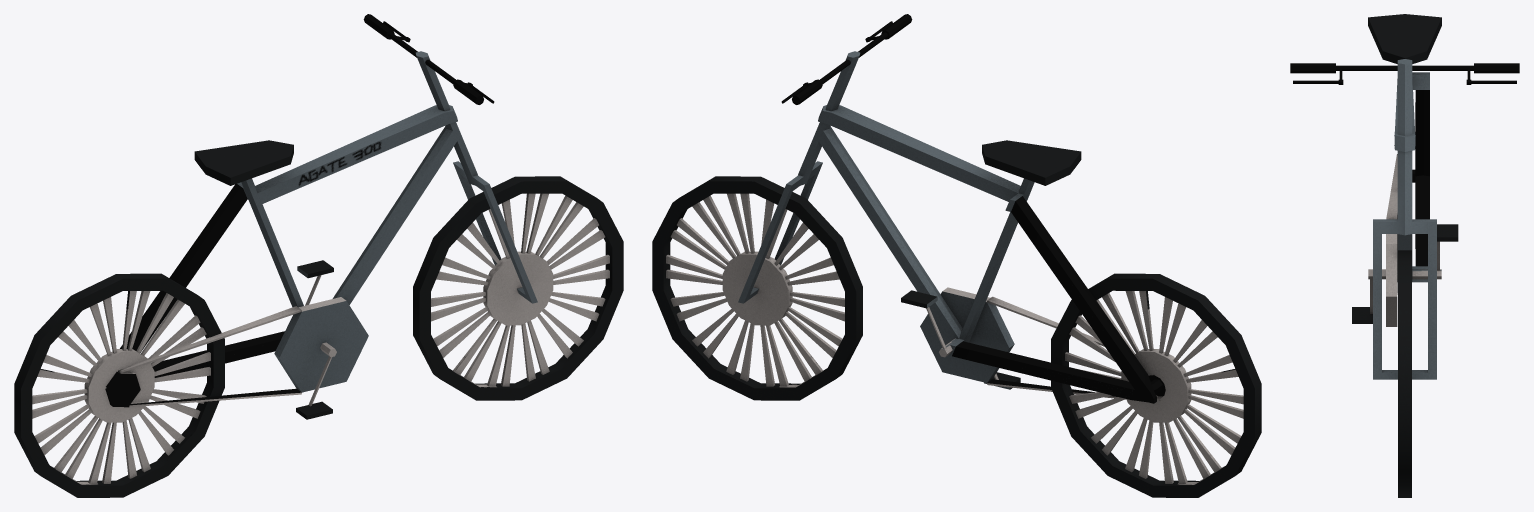
Rendered from P_BYCICLE.fbx.
The picture shows the model from 3 angles, left to right: view 1: azimuth 30°, elevation 25°; view 2: azimuth 150°, elevation 25°; view 3: azimuth 270°, elevation 25°; orthographic projection. The views are drawn at different scales.
Visible parts, largest first — view 1: Bycicle; view 2: Bycicle; view 3: Bycicle.
Boxes of the visible parts, x1,y1,x2,y2 form: Bycicle: [14, 14, 623, 497]; Bycicle: [652, 14, 1261, 497]; Bycicle: [1290, 14, 1519, 497].
Bounding box in the file's own units: 219 × 128 × 70.46.
